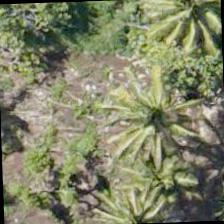Kelapa_Sawit: (88, 80, 181, 172), (82, 173, 175, 223), (145, 0, 223, 54)
